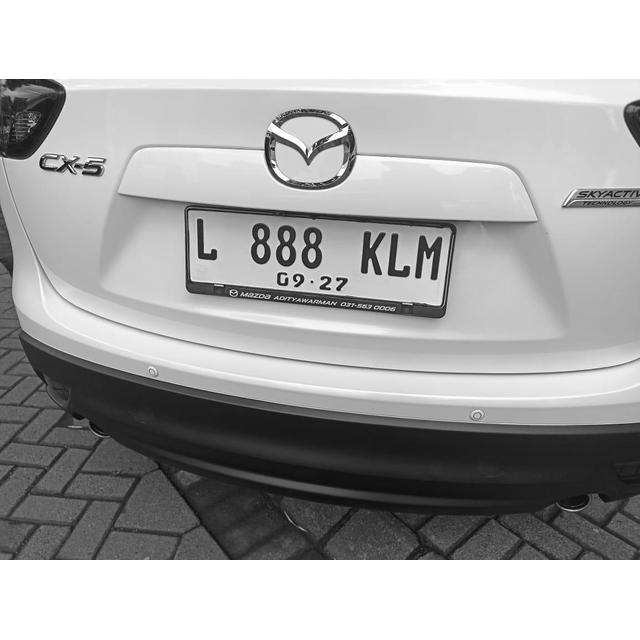license: (192, 212, 444, 299)
